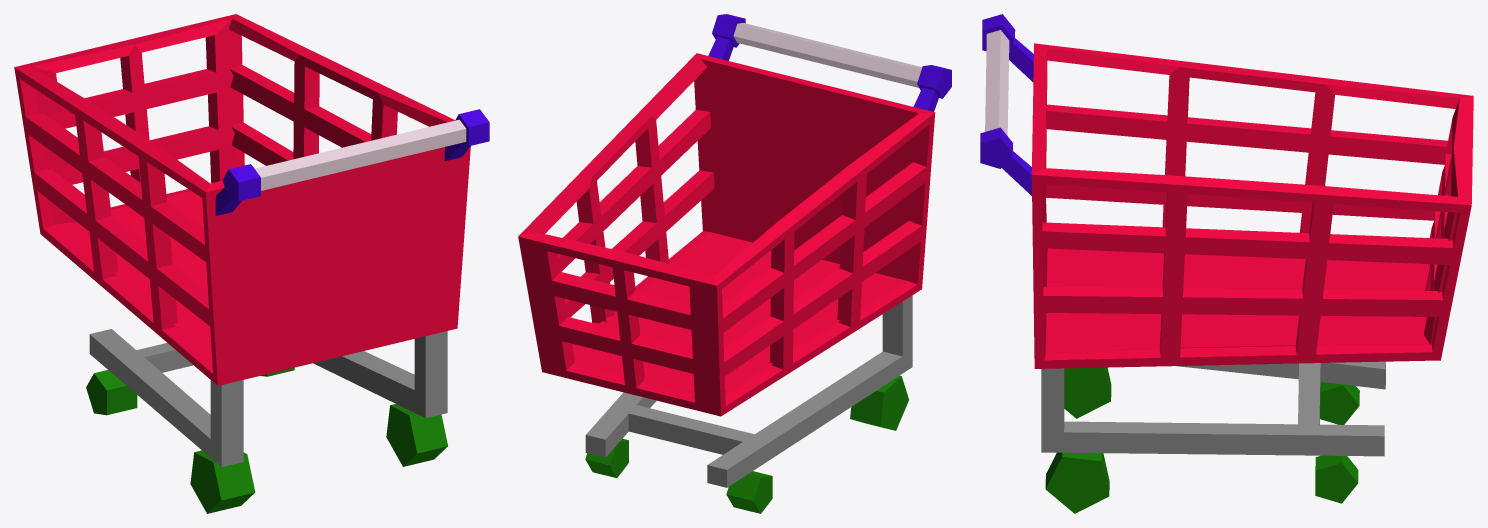
Rendered from carrito2.fbx.
3 views of the same model, side by side, from view 1: azimuth 30°, elevation 25°; view 2: azimuth 150°, elevation 25°; view 3: azimuth 270°, elevation 25° (orthographic). The views are drawn at different scales.
Parts seen in each view (by area): view 1: CarroBueno; view 2: CarroBueno; view 3: CarroBueno.
Part boxes in pixels (x1,y1,x2,y2): CarroBueno: [14, 14, 489, 513]; CarroBueno: [518, 14, 951, 513]; CarroBueno: [980, 14, 1473, 513].
Size of the model in its own units: 0.6864 by 0.928 by 1.09.
